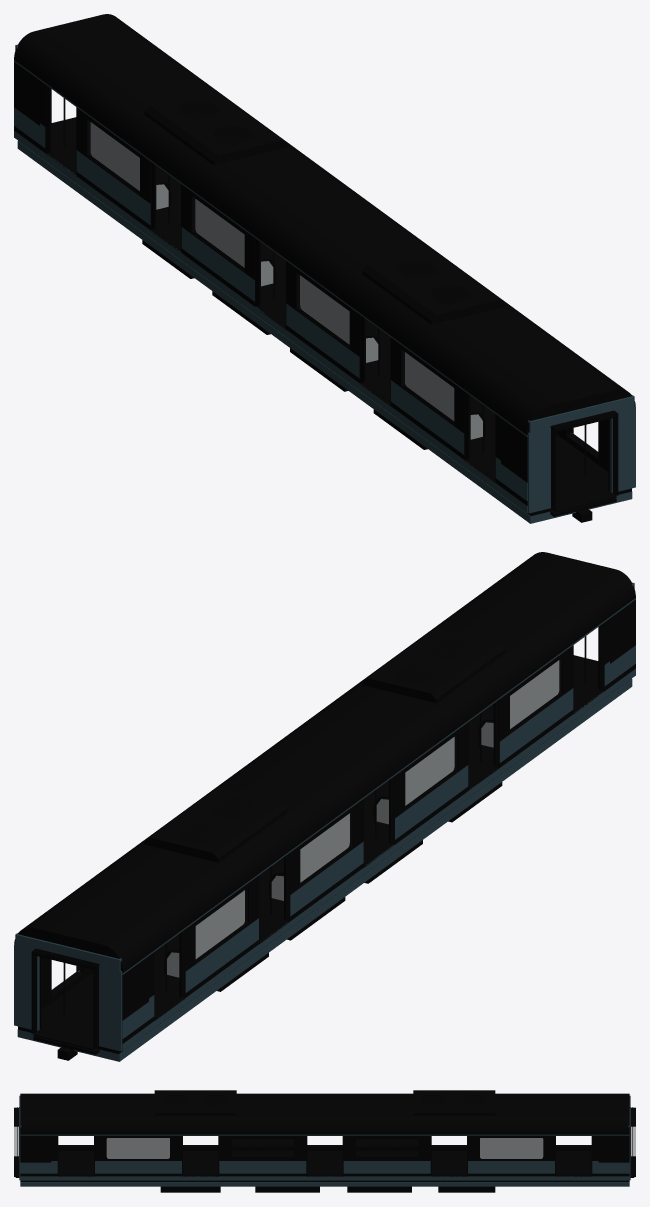
File: middle.obj
3 renders of one model, top to bottom at view 1: azimuth 30°, elevation 25°; view 2: azimuth 150°, elevation 25°; view 3: azimuth 270°, elevation 25°, orthographic. The views are drawn at different scales.
Parts seen in each view (by area): view 1: shell, interior, window, interior_soft_white; view 2: shell, interior, window, interior_soft_white; view 3: shell, interior, window, seats_soft_white, interior_soft_white, seats.
Part boxes in pixels (bbox=[...]): shell: bbox=[14, 14, 635, 523]; interior: bbox=[18, 87, 631, 515]; window: bbox=[90, 122, 482, 439]; interior_soft_white: bbox=[46, 85, 625, 490]; shell: bbox=[14, 552, 635, 1061]; interior: bbox=[18, 625, 631, 1053]; window: bbox=[167, 660, 559, 977]; interior_soft_white: bbox=[24, 623, 603, 1028]; shell: bbox=[14, 1090, 635, 1192]; interior: bbox=[14, 1136, 635, 1181]; window: bbox=[106, 1138, 543, 1158]; seats_soft_white: bbox=[107, 1138, 542, 1158]; interior_soft_white: bbox=[14, 1108, 635, 1150]; seats: bbox=[231, 1140, 418, 1150].
Bounding box in the file's own units: 3 × 3.64 × 25.
